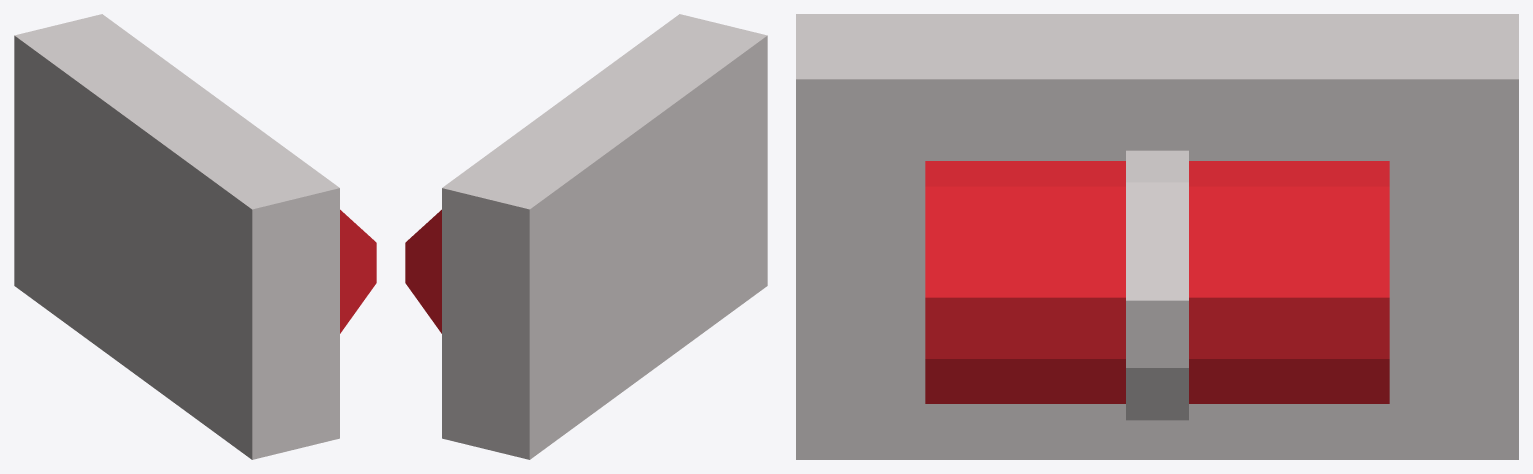
File: light_small.fbx
3 views of the same model, side by side, from view 1: azimuth 30°, elevation 25°; view 2: azimuth 150°, elevation 25°; view 3: azimuth 270°, elevation 25° (orthographic). The views are drawn at different scales.
Parts seen in each view (by area): view 1: Light_small; view 2: Light_small; view 3: Light_small.
Boxes of the visible parts, x1,y1,x2,y2 form: Light_small: (14, 14, 376, 459); Light_small: (405, 14, 767, 459); Light_small: (796, 14, 1518, 459).
Bounding box in the file's own units: 20.41 × 27.89 × 47.99.
